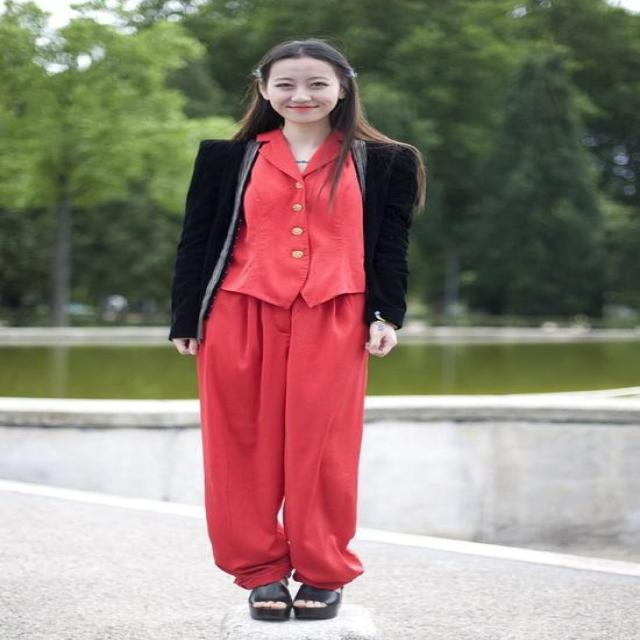pants: (198, 288, 371, 592)
shirt: (192, 128, 415, 314)
